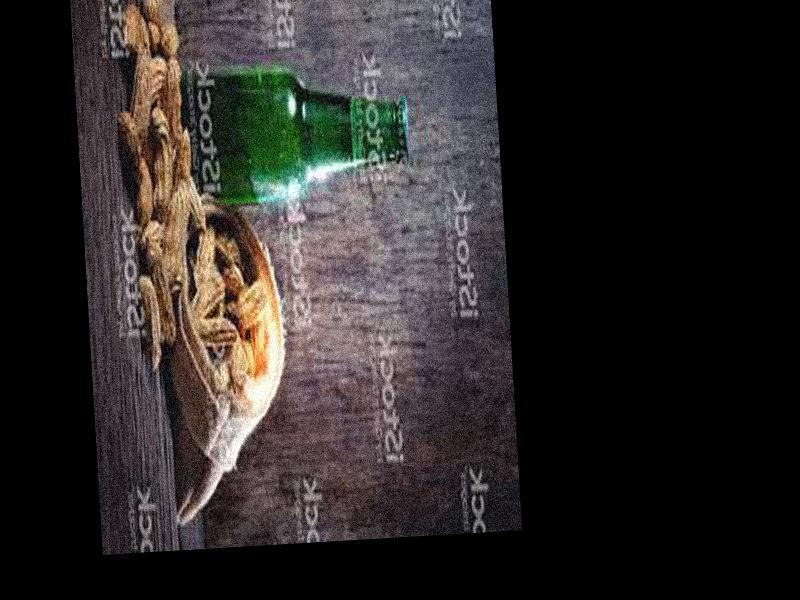Beer: (162, 61, 415, 213)
